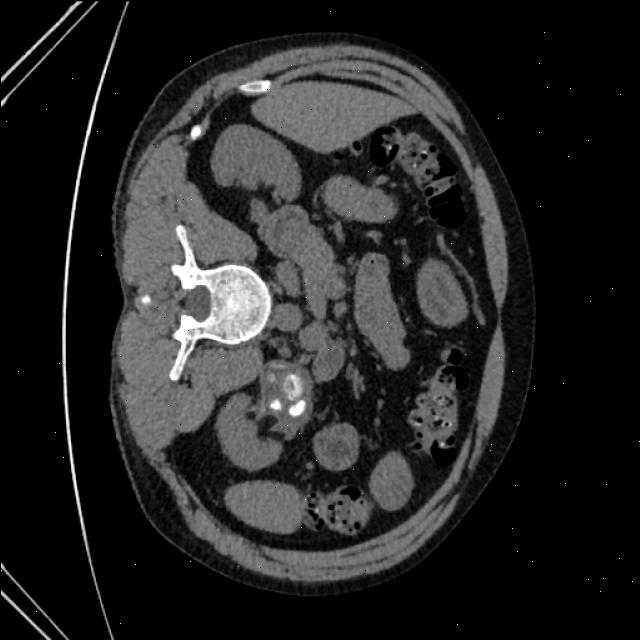kidneystone: (282, 375, 302, 400), (288, 401, 304, 418), (268, 399, 281, 411)
